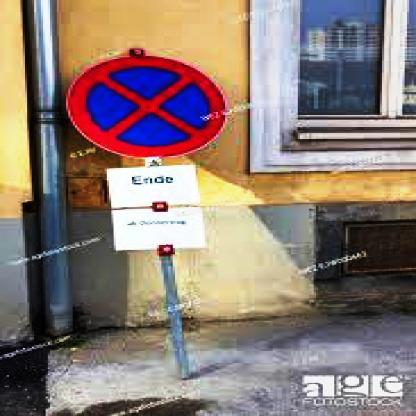No stopping: (57, 51, 232, 158)
